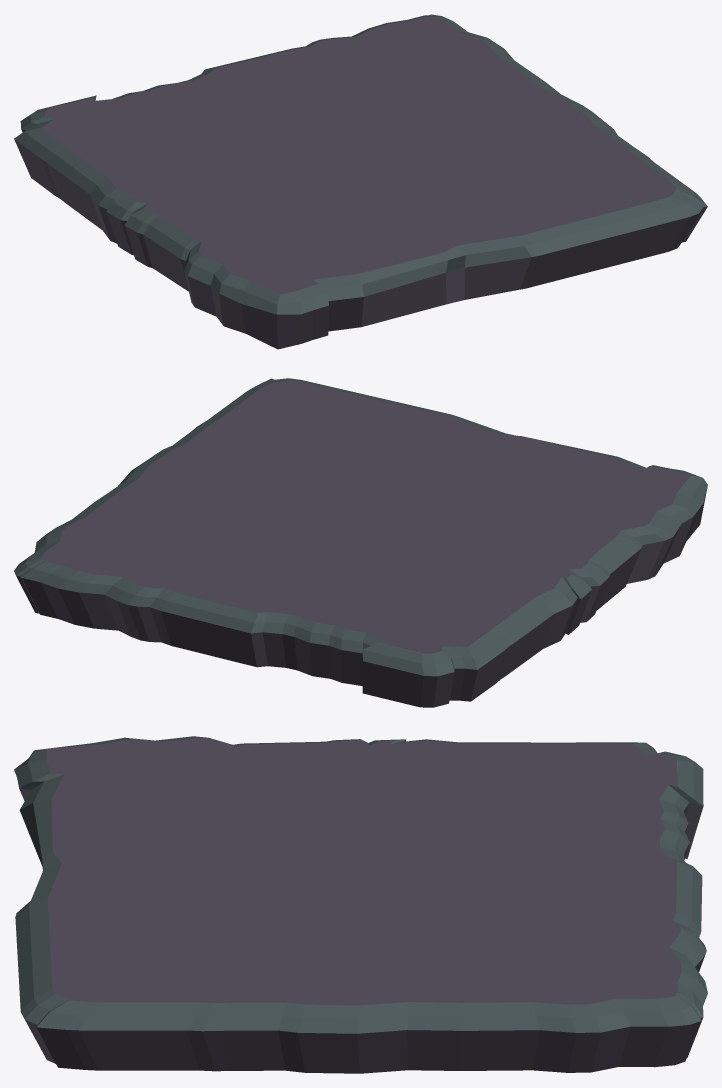
File: questDescriptionSlab.glb
The picture shows the model from 3 angles, top to bottom: view 1: azimuth 30°, elevation 25°; view 2: azimuth 150°, elevation 25°; view 3: azimuth 270°, elevation 25°; orthographic projection. The views are drawn at different scales.
Parts seen in each view (by area): view 1: questDescriptionSlab; view 2: questDescriptionSlab; view 3: questDescriptionSlab.
Boxes of the visible parts, left/top/right/bottom form: questDescriptionSlab: left=14, top=14, right=707, bottom=349; questDescriptionSlab: left=14, top=378, right=707, bottom=707; questDescriptionSlab: left=14, top=736, right=707, bottom=1073.
Bounding box in the file's own units: 6.09 × 0.6246 × 6.11.
Materials: 1 (1 with a texture image).
